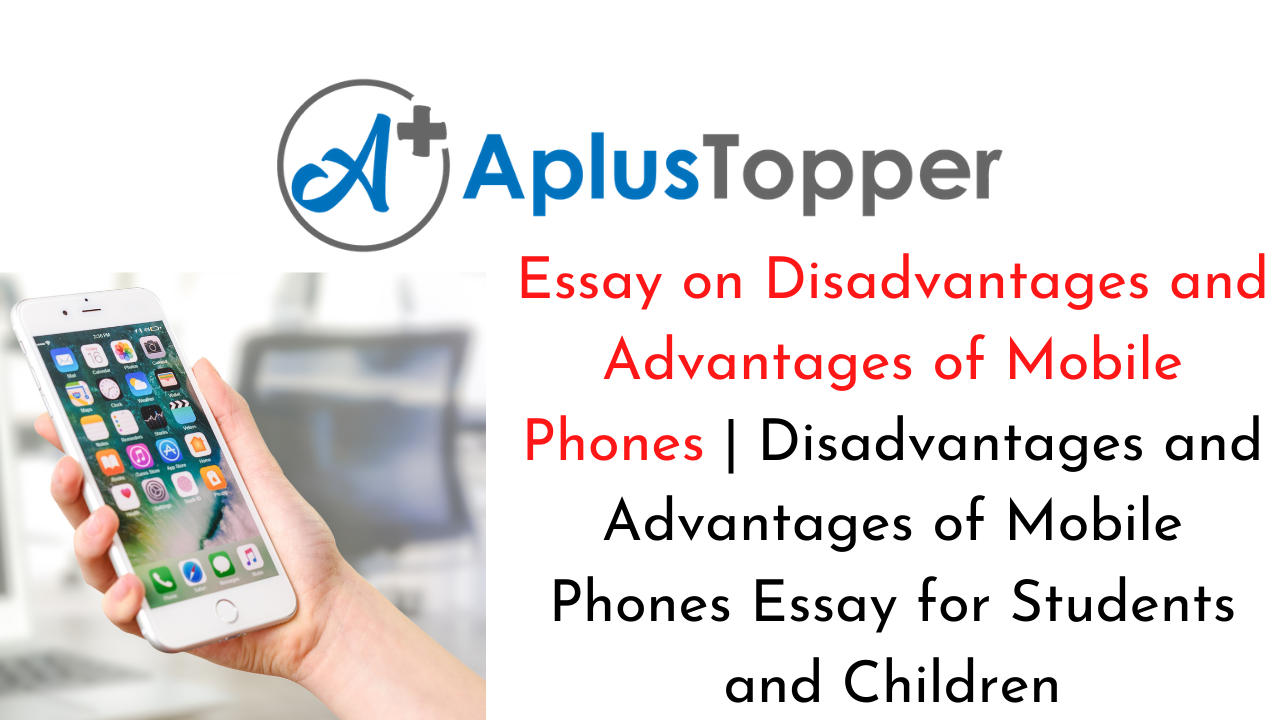hand: (32, 382, 496, 720)
phone: (4, 284, 299, 646)
